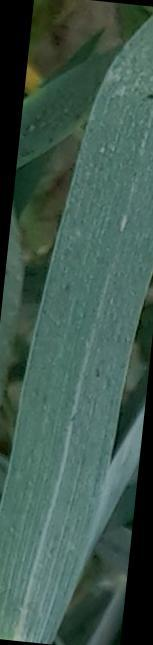Wheat: (1, 289, 140, 626), (56, 78, 151, 284)
